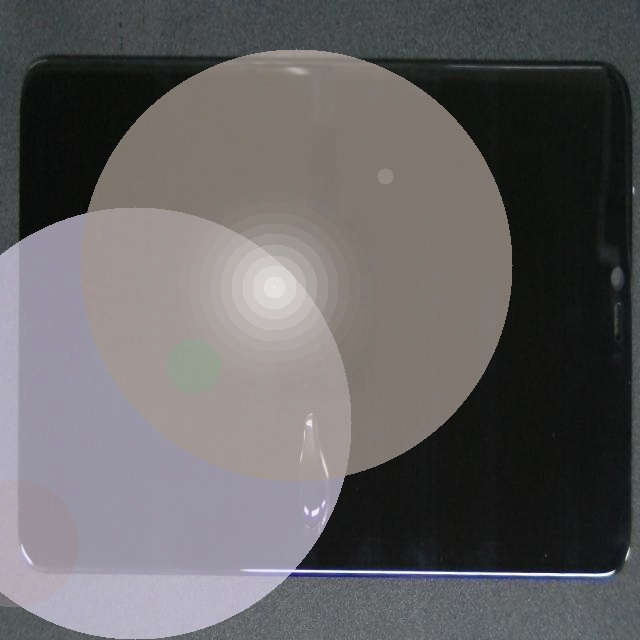oil: (154, 162, 456, 609)
